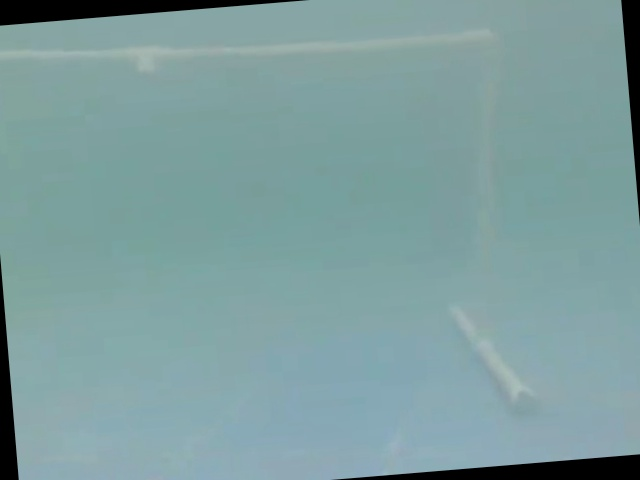gate: (5, 16, 558, 475)
